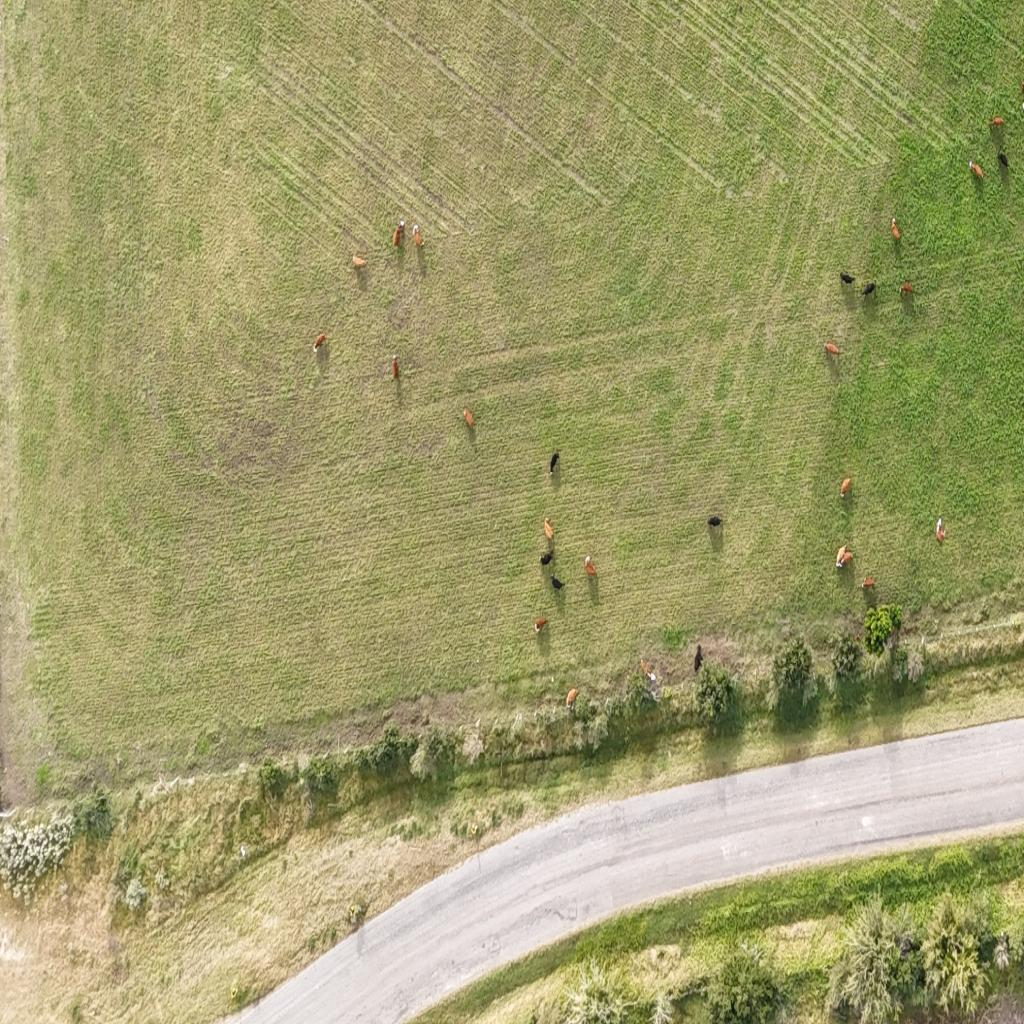cow: (394, 220, 406, 248), (584, 555, 598, 577), (970, 160, 984, 180), (566, 688, 578, 710), (835, 545, 846, 569), (544, 518, 554, 544), (860, 577, 876, 593), (860, 282, 876, 298), (694, 644, 703, 672), (891, 216, 901, 241), (550, 576, 566, 591), (391, 354, 400, 380), (540, 549, 553, 567), (413, 225, 423, 248), (352, 254, 368, 268), (824, 342, 840, 356), (463, 408, 474, 428), (840, 476, 851, 496), (314, 332, 326, 350), (842, 549, 854, 567), (549, 452, 559, 473), (998, 151, 1009, 169), (840, 272, 854, 286), (534, 618, 546, 634), (707, 516, 722, 528), (990, 116, 1004, 128), (900, 282, 914, 294), (937, 524, 946, 542), (639, 660, 648, 678)
